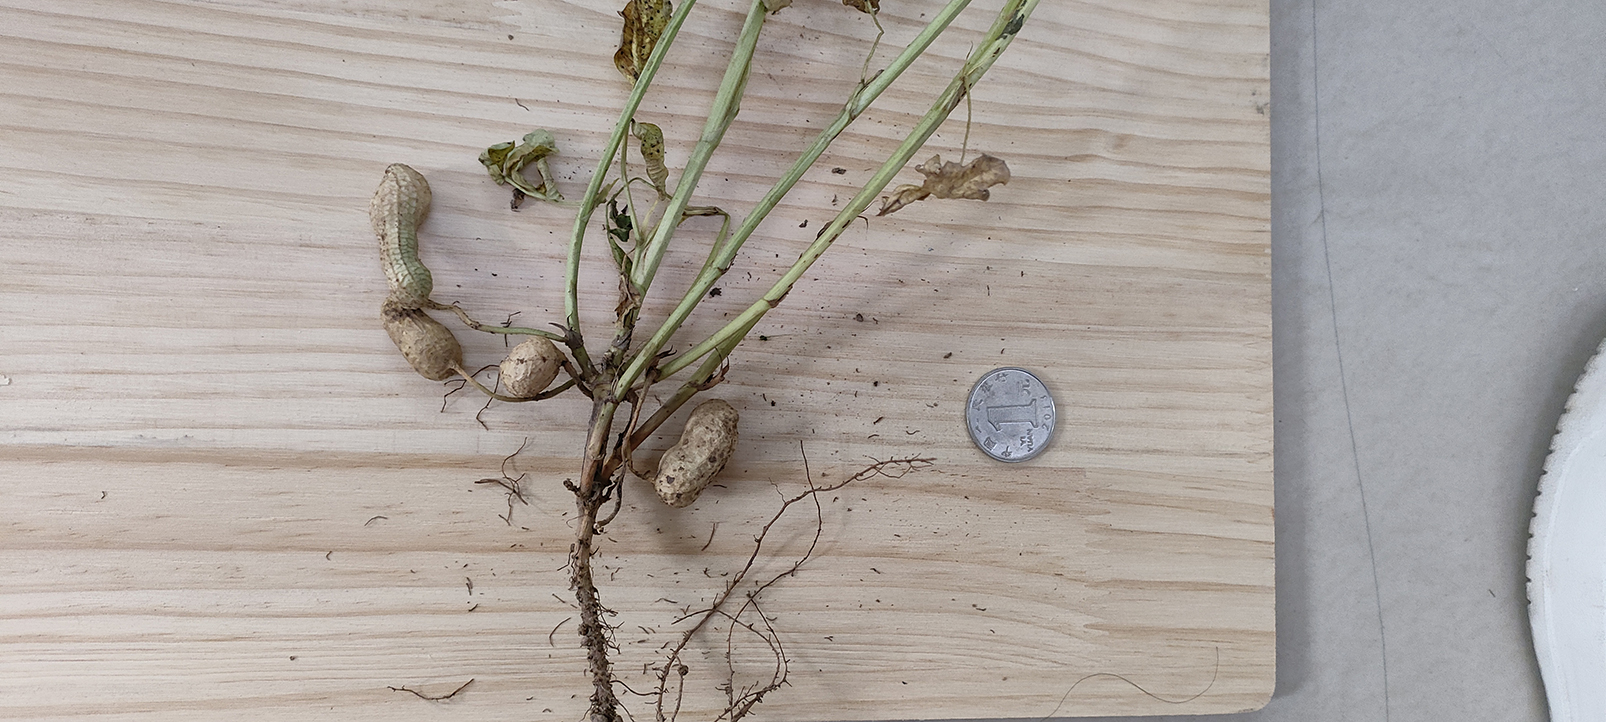h: (371, 162, 433, 316), (652, 398, 739, 507), (375, 316, 464, 383), (492, 337, 560, 399)
